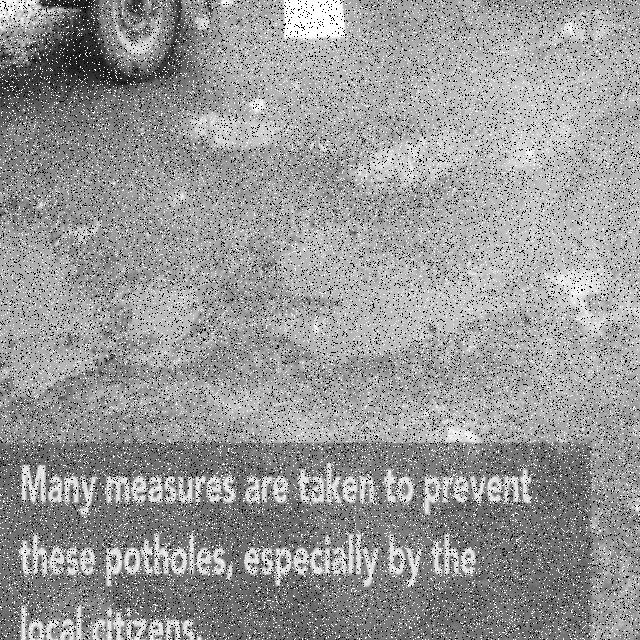pothole: (0, 224, 203, 399), (261, 223, 498, 367), (356, 132, 486, 209), (512, 2, 640, 67), (174, 109, 280, 169)
